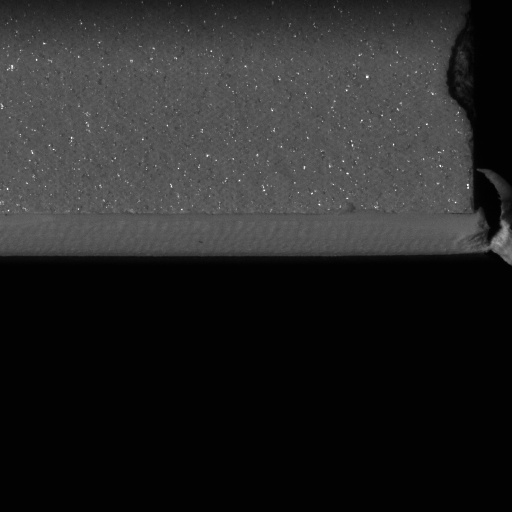bengque: (444, 18, 482, 133)
changdai: (467, 166, 511, 267)
